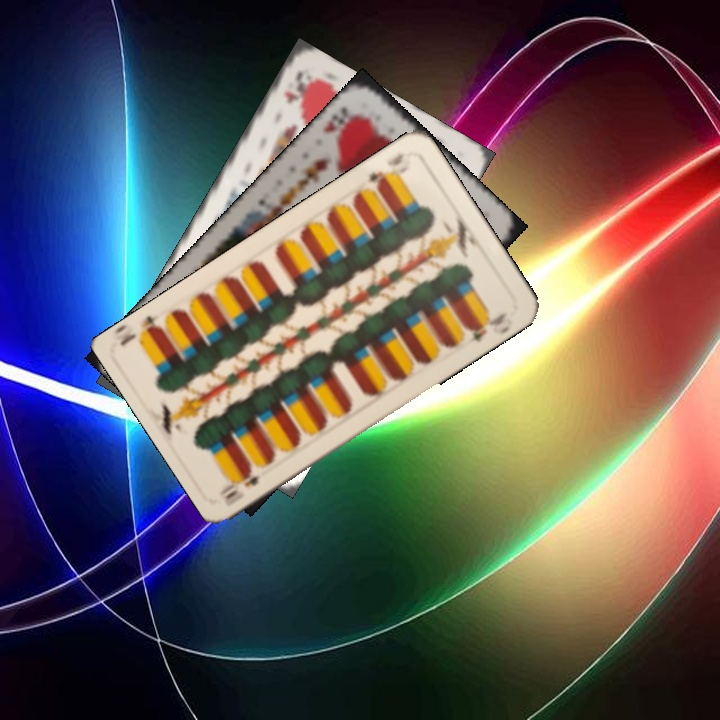E10: (364, 148, 414, 192), (216, 466, 262, 503)
HK: (320, 102, 365, 137), (280, 67, 312, 107)
